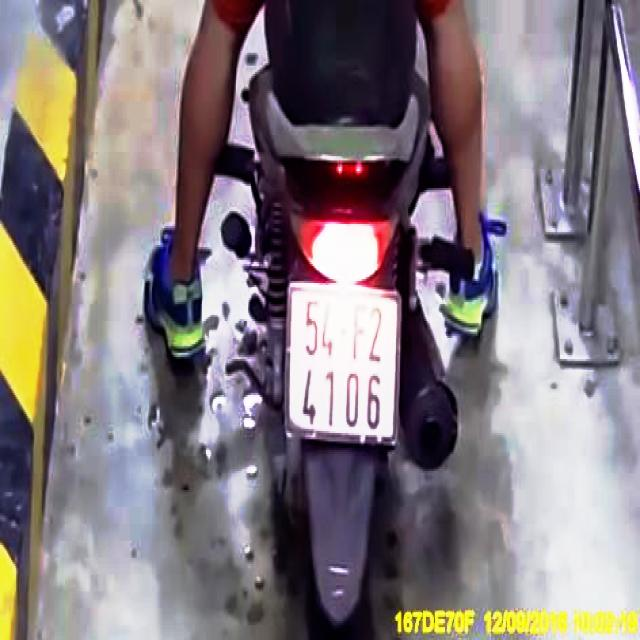license_plate: (288, 280, 401, 444)
